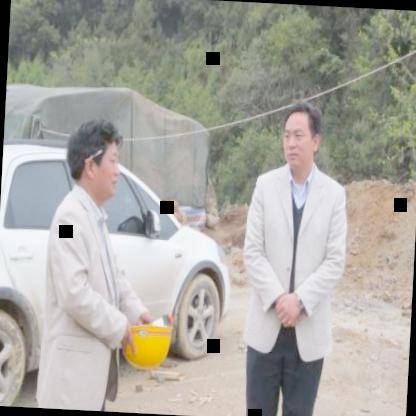head: (60, 111, 128, 205), (276, 99, 322, 173)
